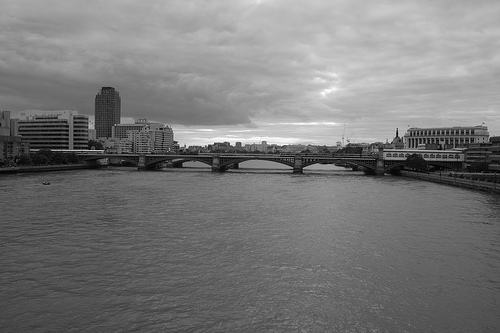brige: (32, 142, 396, 186)
